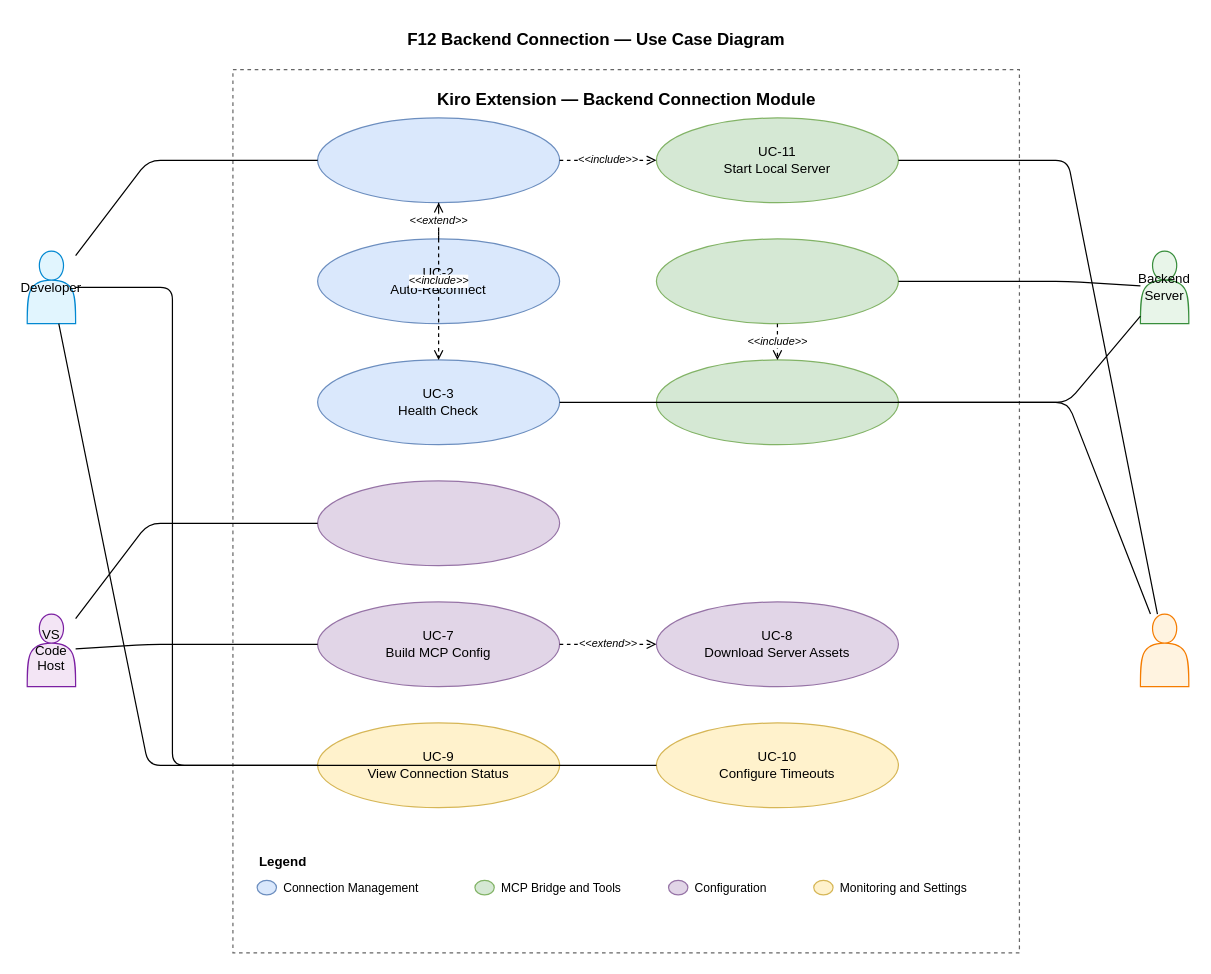
The diagram is 1211 pixels wide and 974 high, and some of its shapes have lost their labels. The shapes that lost their labels are listed below. From the top down, each one's box as (x1, y1, x2, y2) in pixels, then its label:
(316, 117, 560, 203): UC-1 Connect to Backend
(655, 238, 898, 324): UC-4 Proxy MCP Request
(655, 359, 898, 445): UC-5 Execute Local Tool
(316, 480, 560, 566): UC-6 Watch Config Changes
(1139, 613, 1189, 687): MCP Client
